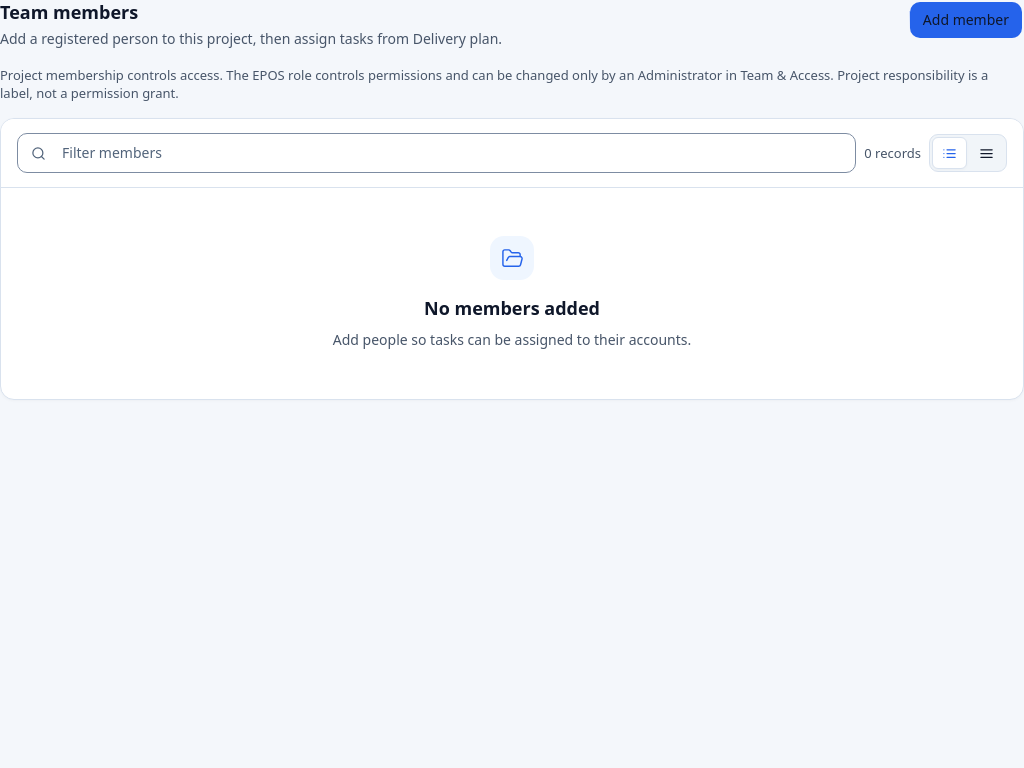
Test: Project members › adds a selected registered account rather than a typed name
Click the button named "Add member": (966, 20) 908,0 -> 1023,40
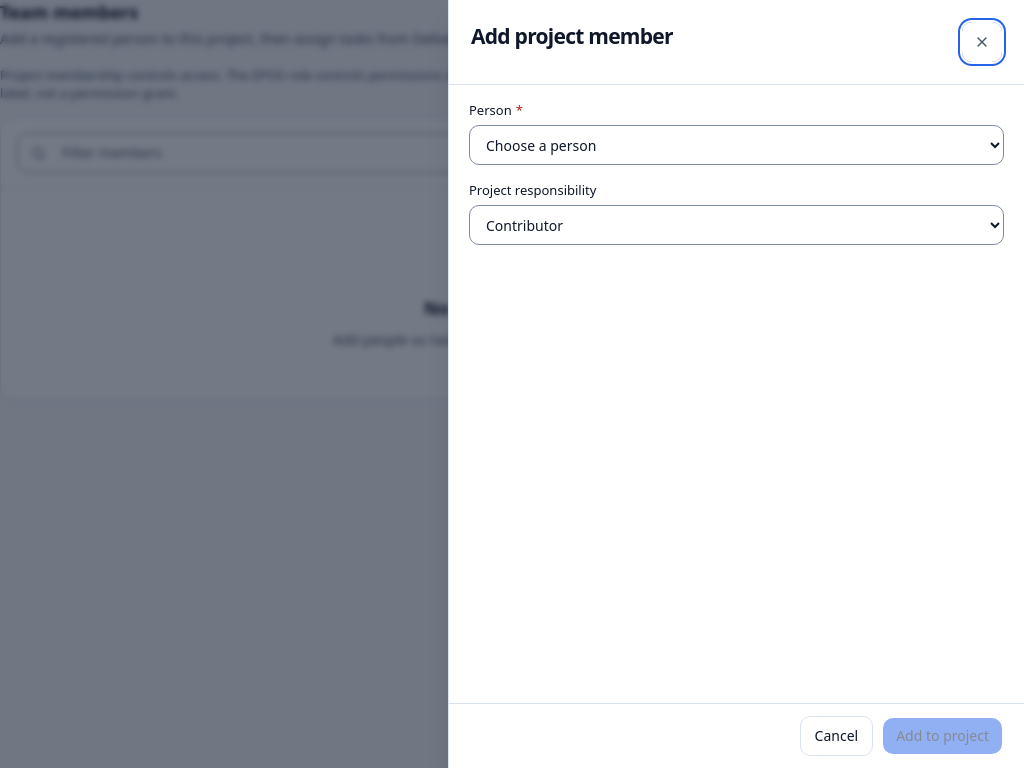
Select "Synthetic Engineer · engineer@test.example.com · Engineer" in the dropdown labelled "Person": (736, 145) 469,125 -> 1004,165
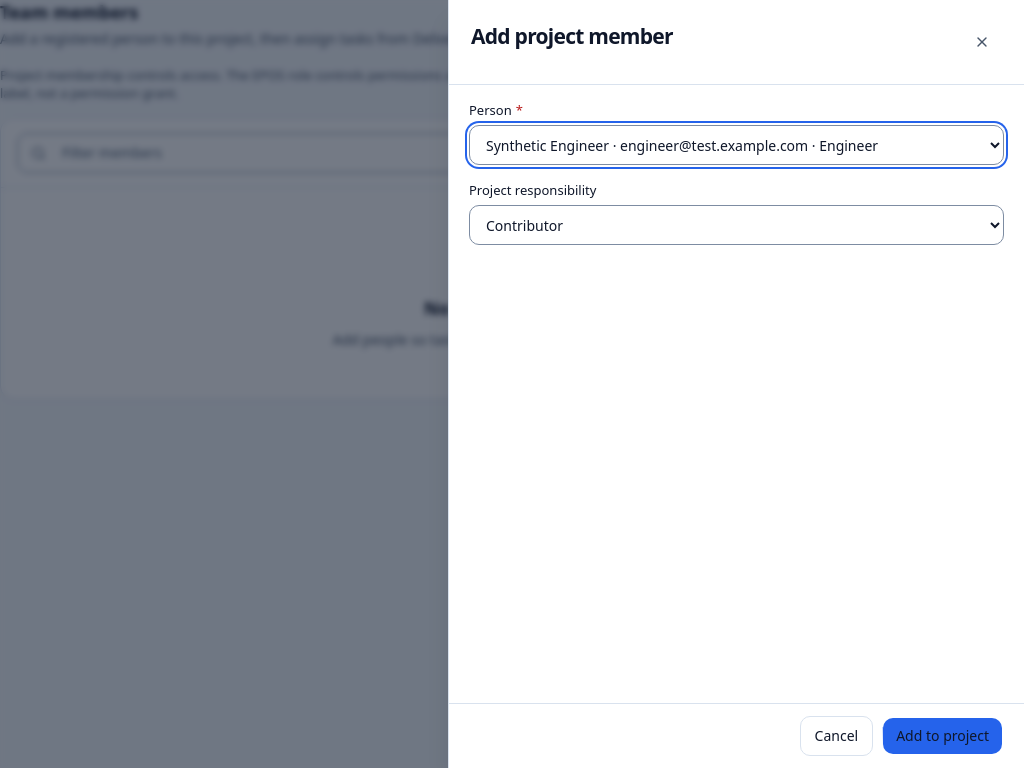
Click the 2nd button named "Add to project": (943, 736) 881,716 -> 1004,756
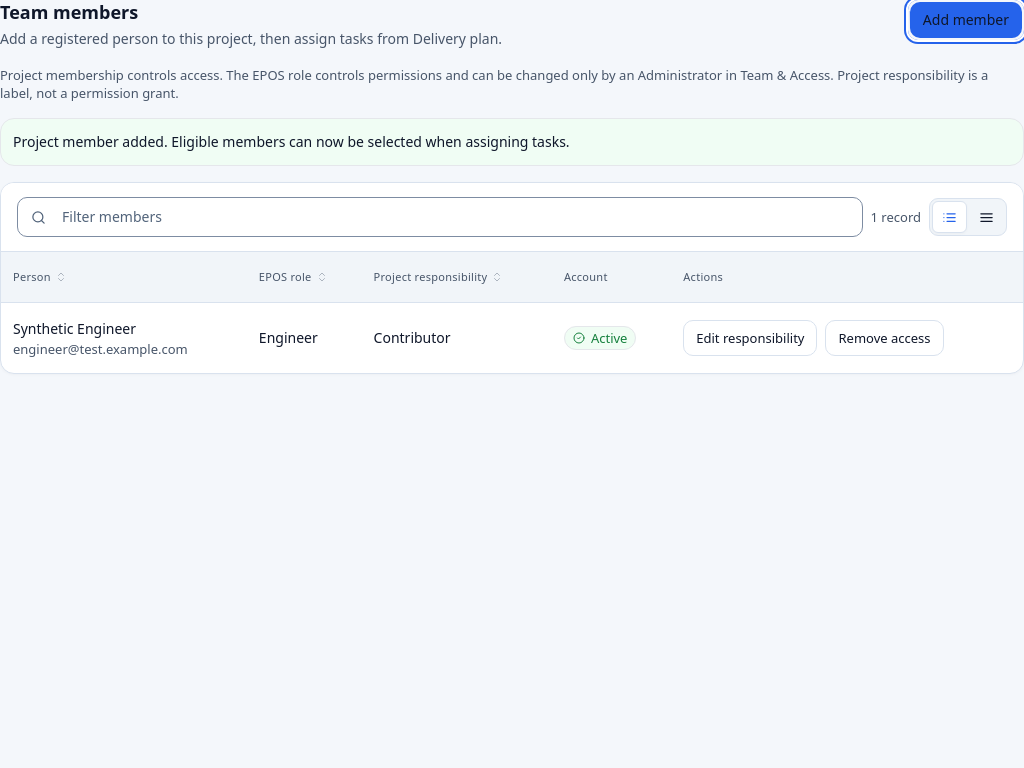
Expected: the 2nd button named "Edit responsibility" is shown, 683,320 -> 818,356
Expected: the message shows "Project member added", 13,132 -> 570,151
